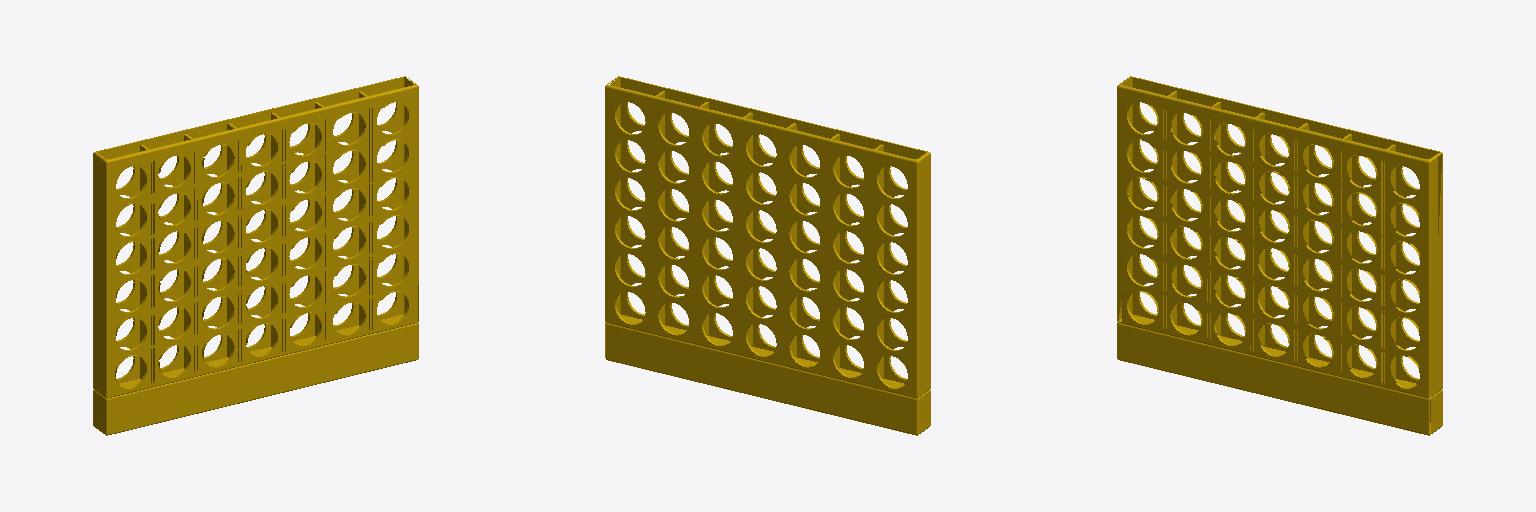
File: connect4board.obj
3 views of the same model, side by side, from view 1: azimuth 30°, elevation 25°; view 2: azimuth 150°, elevation 25°; view 3: azimuth 330°, elevation 25° (orthographic).
Parts seen in each view (by area): view 1: 4gewinnt; view 2: 4gewinnt; view 3: 4gewinnt.
Part boxes in pixels (x1,y1,x2,y2): 4gewinnt: (93, 76, 418, 435); 4gewinnt: (605, 76, 930, 435); 4gewinnt: (1117, 76, 1442, 435).
Bounding box in the file's own units: 5.93 × 4.98 × 0.4485.